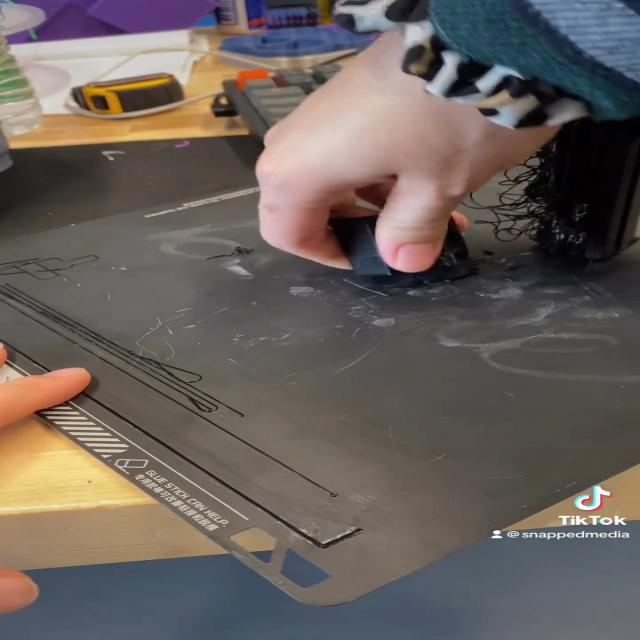spaghetti: (483, 158, 572, 275)
